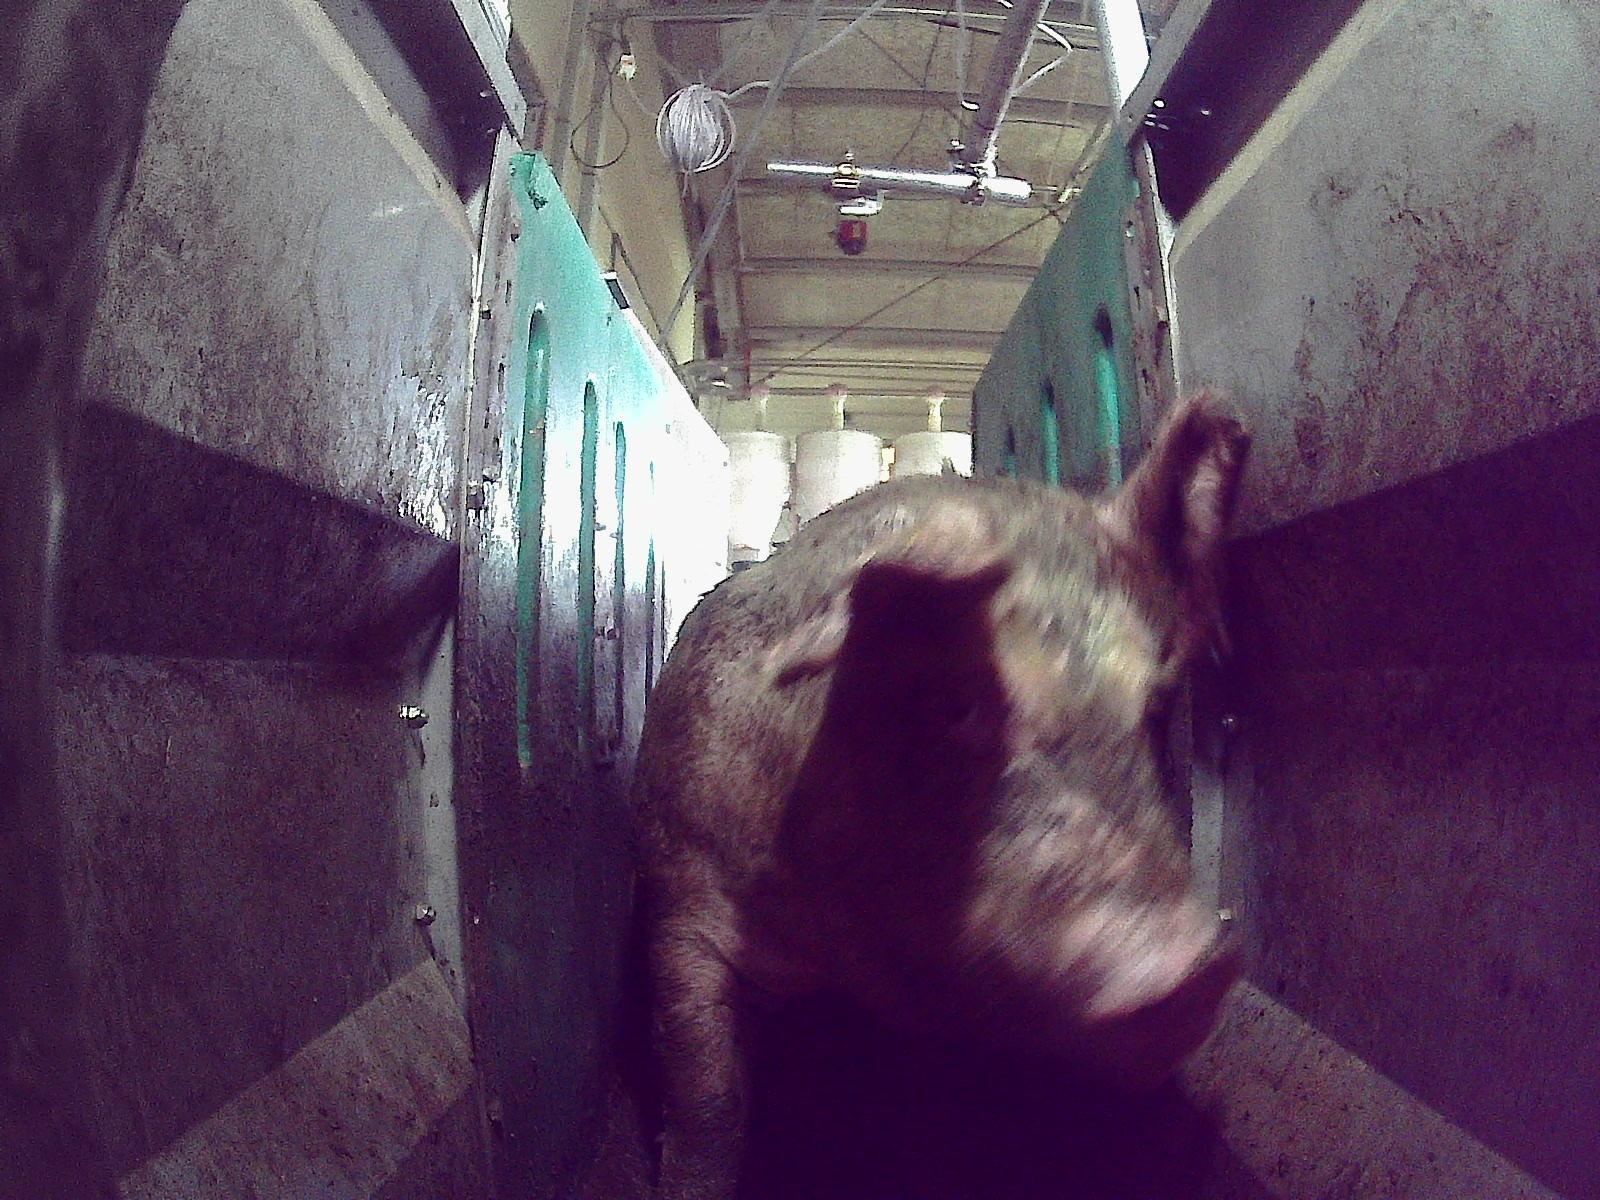Face: (815, 501, 1249, 1095)
